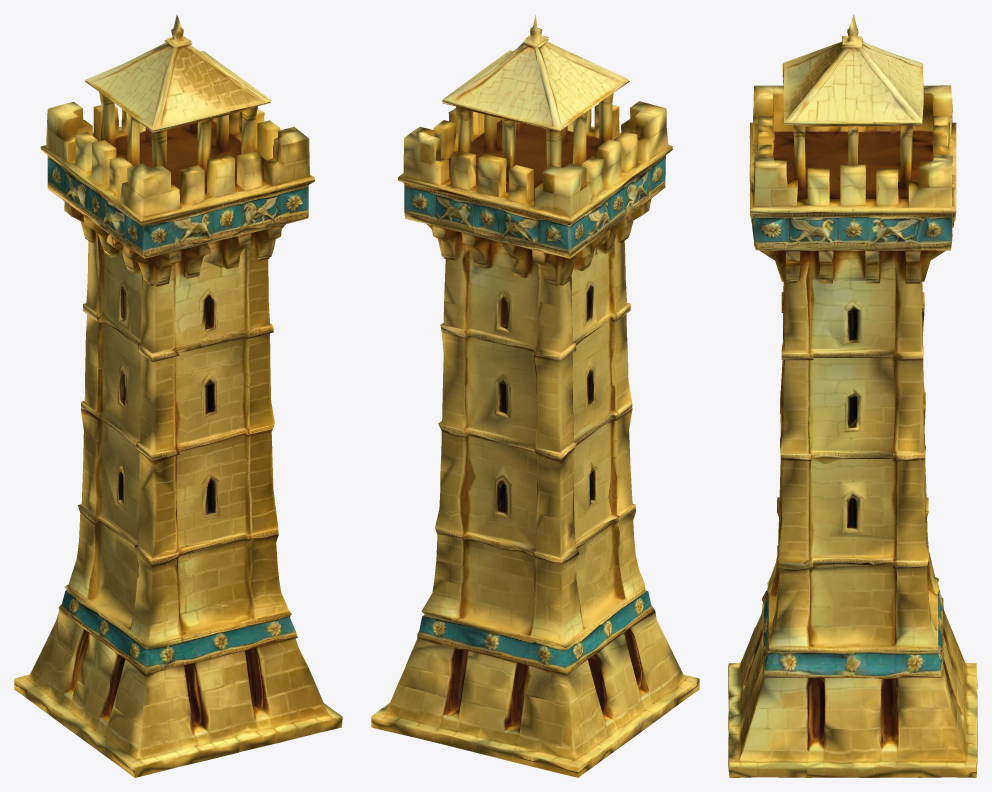
The model's file is castle_tower_tall_gold.glb.
3 renders of one model, left to right at view 1: azimuth 30°, elevation 25°; view 2: azimuth 150°, elevation 25°; view 3: azimuth 270°, elevation 25°, orthographic. The views are drawn at different scales.
Parts seen in each view (by area): view 1: tripo_node_44793269-7cc0-4a58-a155-e878e08d687c; view 2: tripo_node_44793269-7cc0-4a58-a155-e878e08d687c; view 3: tripo_node_44793269-7cc0-4a58-a155-e878e08d687c.
Boxes of the visible parts, left/top/right/bottom form: tripo_node_44793269-7cc0-4a58-a155-e878e08d687c: left=14, top=14, right=342, bottom=777; tripo_node_44793269-7cc0-4a58-a155-e878e08d687c: left=371, top=15, right=699, bottom=777; tripo_node_44793269-7cc0-4a58-a155-e878e08d687c: left=728, top=14, right=977, bottom=777.
Size of the model in its own units: 0.3074 by 0.9777 by 0.3107.
Materials: 1 (1 with a texture image).
